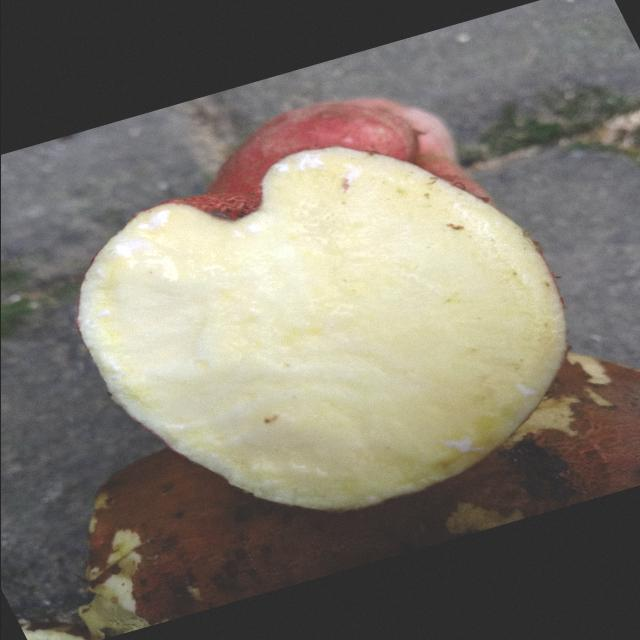Healthy Sweet Potato: (77, 148, 565, 509)
